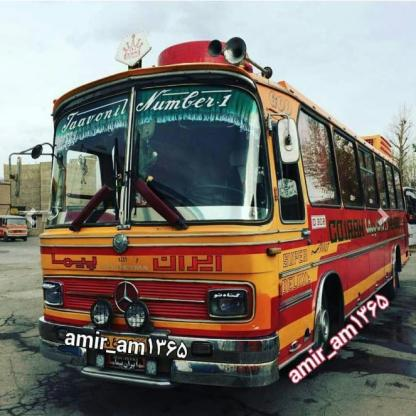Bus: (39, 44, 416, 389), (400, 181, 416, 248), (0, 208, 29, 243)
